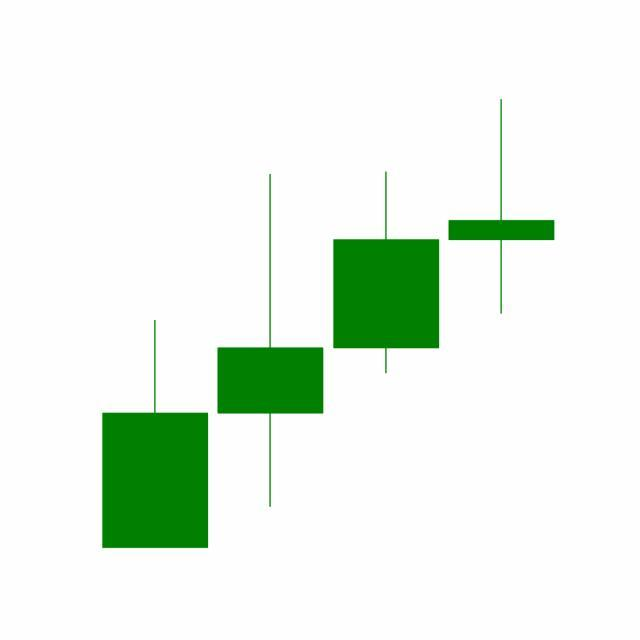Spinning Top: (444, 98, 560, 318)
